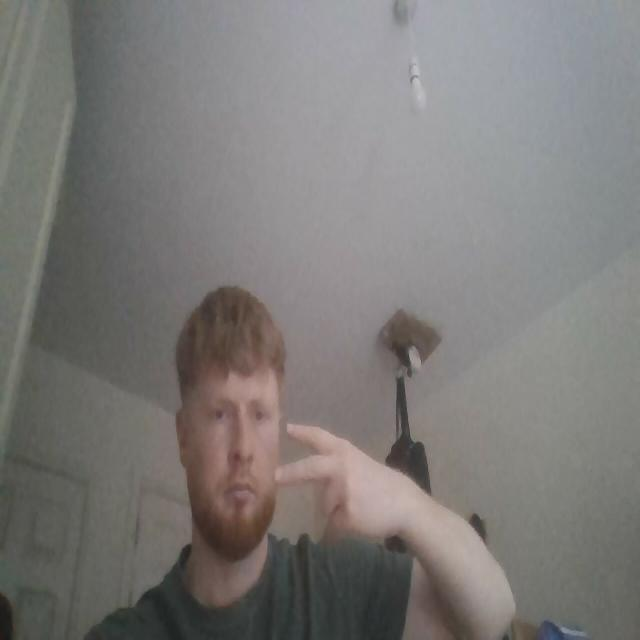scissors: (271, 417, 401, 547)
